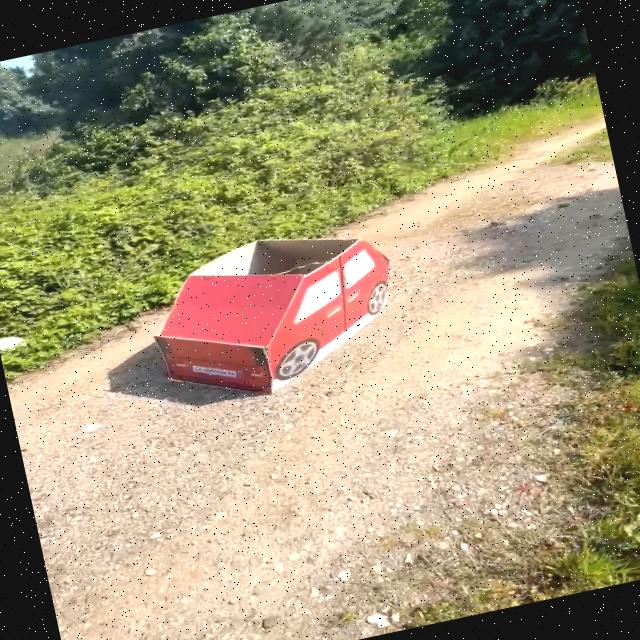red_car: (73, 195, 436, 440)
